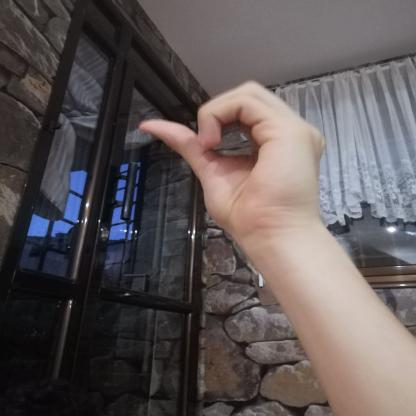WAW: (122, 71, 349, 260)
